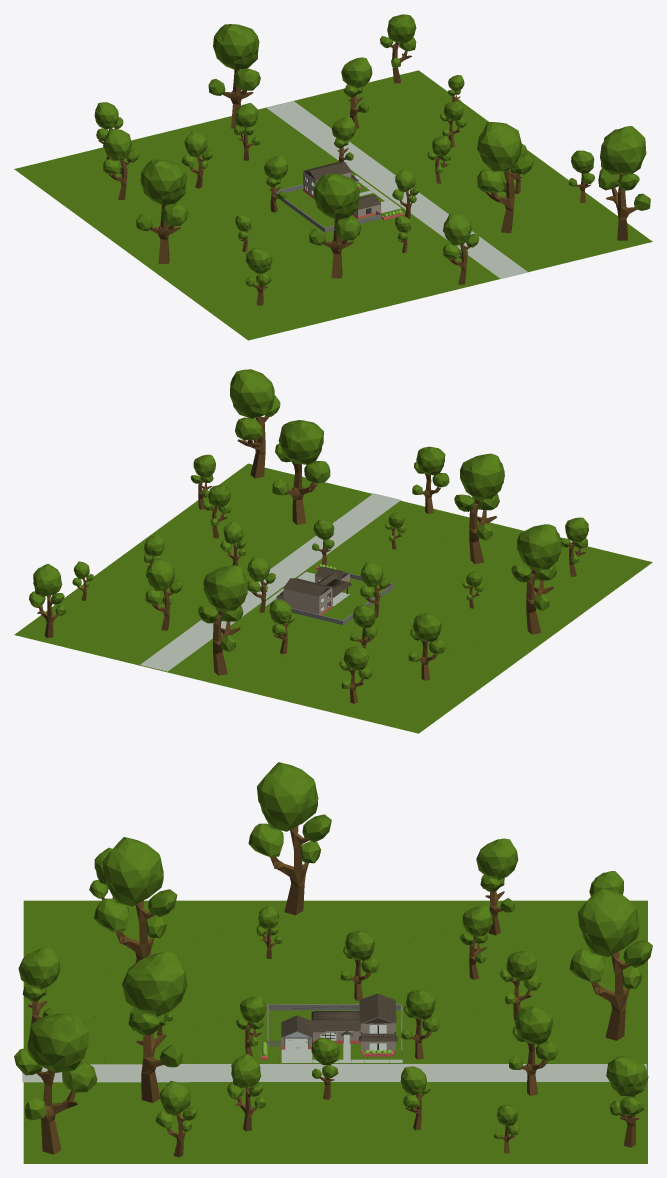
File: fachada.obj
3 renders of one model, top to bottom at view 1: azimuth 30°, elevation 25°; view 2: azimuth 150°, elevation 25°; view 3: azimuth 270°, elevation 25°, orthographic. The views are drawn at different scales.
Parts seen in each view (by area): view 1: Grass_Plane, Tree_Tree1_Cube.001_Tree1_Cube.017, Grass_Plane.001, Floor, Ceiling, Fence_Cube_Fence_Cube.002; view 2: Grass_Plane, Tree_Tree1_Cube.001_Tree1_Cube.017, Floor, Grass_Plane.001, HouseWall_Wall.002, Ceiling; view 3: Grass_Plane, Grass_Plane.001, Tree_Tree1_Cube.001_Tree1_Cube.017, Floor, Ceiling, Fence_Cube_Fence_Cube.002, HouseWall_Wall.002.
Boxes of the visible parts, left/top/right/bottom form: Grass_Plane: left=14, top=70, right=578, bottom=339; Tree_Tree1_Cube.001_Tree1_Cube.017: left=94, top=14, right=650, bottom=305; Grass_Plane.001: left=15, top=74, right=652, bottom=340; Floor: left=266, top=101, right=528, bottom=278; Ceiling: left=303, top=162, right=380, bottom=209; Fence_Cube_Fence_Cube.002: left=275, top=184, right=381, bottom=232; Grass_Plane: left=14, top=464, right=651, bottom=733; Tree_Tree1_Cube.001_Tree1_Cube.017: left=29, top=369, right=588, bottom=703; Floor: left=140, top=493, right=400, bottom=671; Grass_Plane.001: left=229, top=463, right=652, bottom=731; HouseWall_Wall.002: left=277, top=573, right=349, bottom=614; Ceiling: left=283, top=567, right=349, bottom=596; Grass_Plane: left=25, top=900, right=647, bottom=1163; Grass_Plane.001: left=23, top=900, right=646, bottom=1163; Tree_Tree1_Cube.001_Tree1_Cube.017: left=14, top=762, right=652, bottom=1157; Floor: left=22, top=1025, right=646, bottom=1082; Ceiling: left=281, top=993, right=396, bottom=1038; Fence_Cube_Fence_Cube.002: left=267, top=1004, right=402, bottom=1056; HouseWall_Wall.002: left=312, top=1023, right=395, bottom=1051.
Bounding box in the file's own units: 167 × 41.01 × 167.
8 materials, 8 textured.
